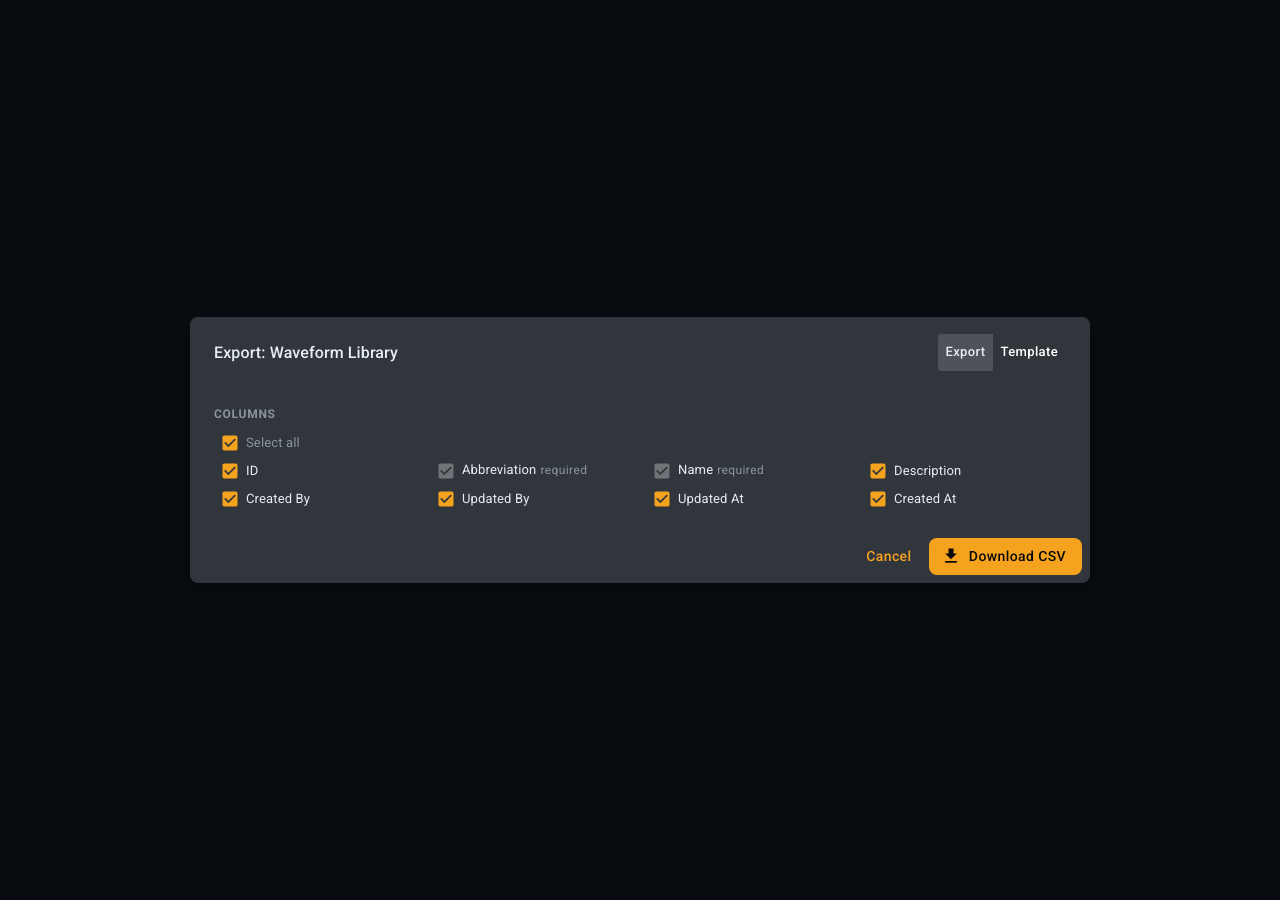
Test case: CsvDialog › surfaces a thrown fetch or token error rather than erasing it
What coordinates should you click on to do the following:
click the button "Download CSV"
I would click on:
 (1005, 556)
Its box is 929,538 -> 1082,575.
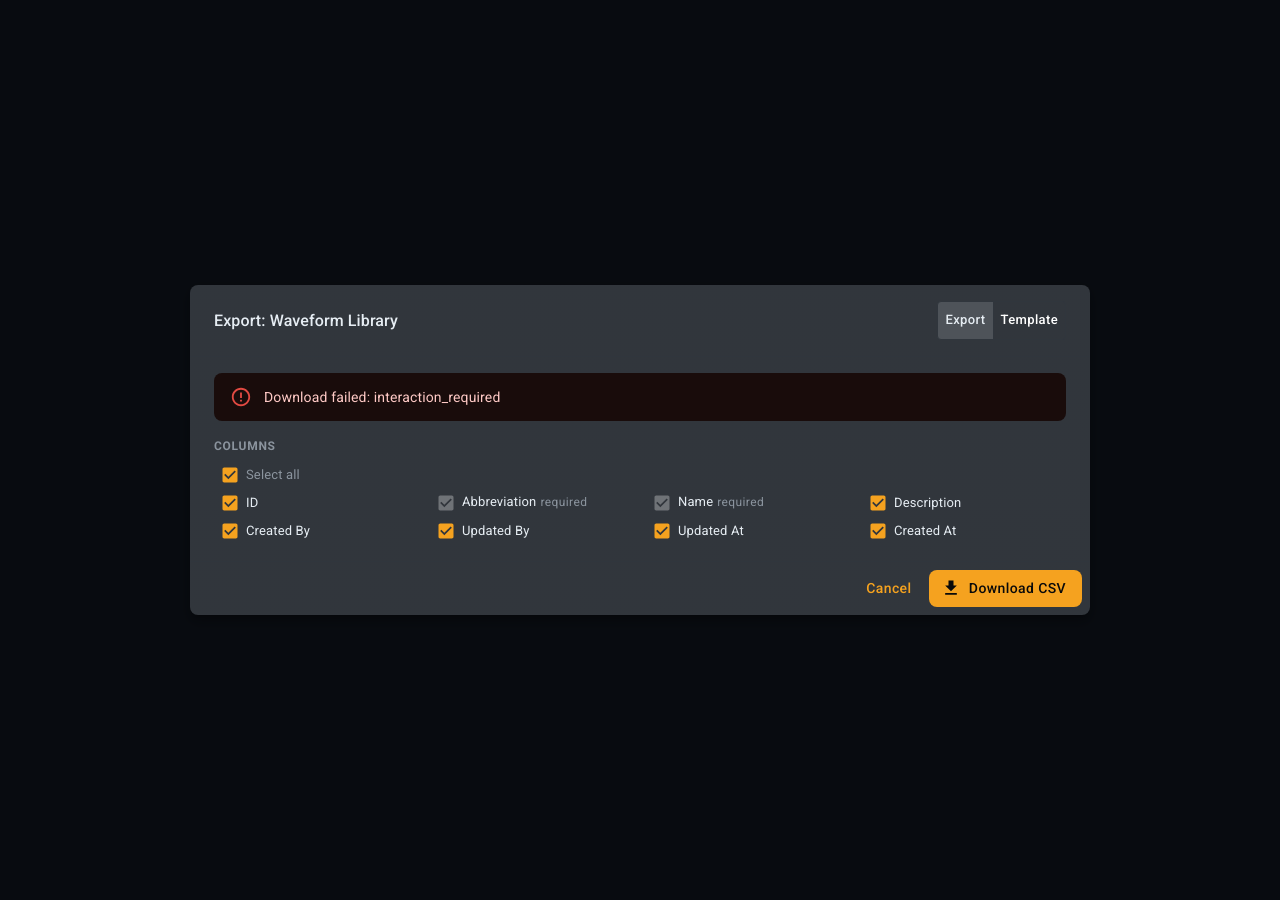
Now the text "Download failed: interaction_required" is shown, box 264,389 -> 500,405
